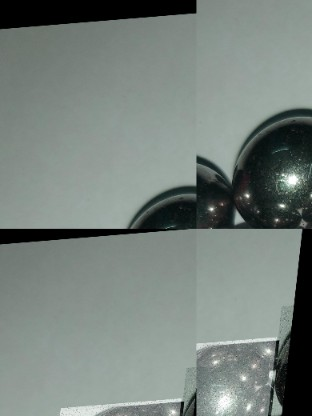ironball: (237, 106, 310, 226), (196, 342, 281, 415), (121, 189, 188, 225), (194, 161, 229, 226)
